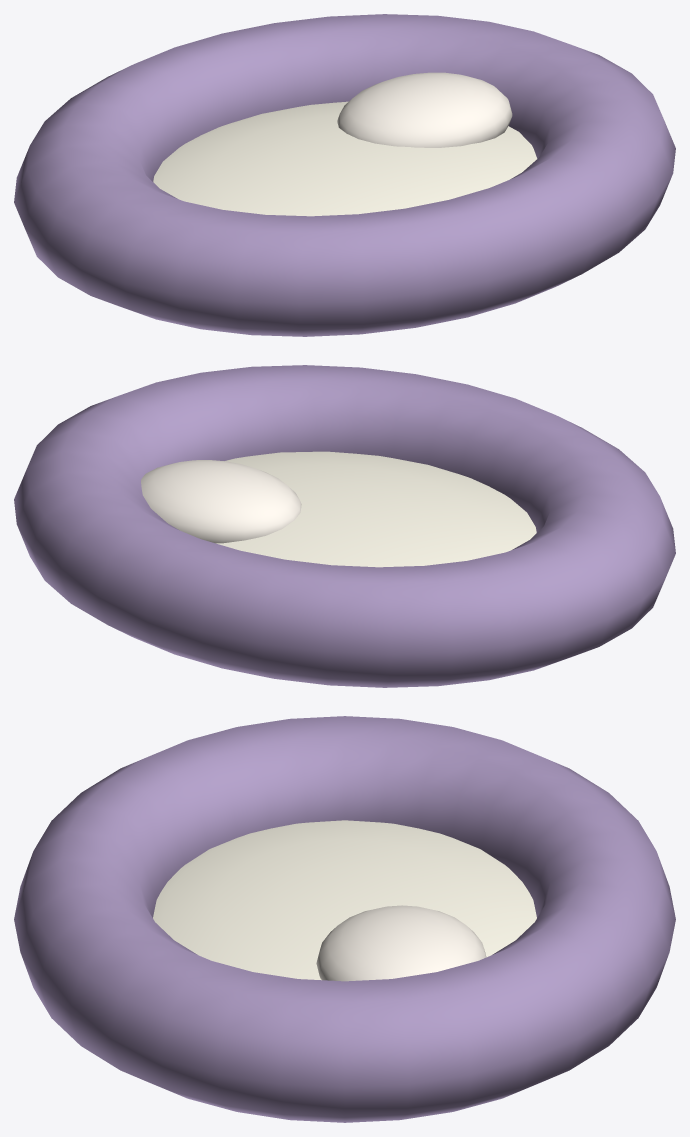
File: bed-purple.glb
3 renders of one model, top to bottom at view 1: azimuth 30°, elevation 25°; view 2: azimuth 150°, elevation 25°; view 3: azimuth 270°, elevation 25°, orthographic. The views are drawn at different scales.
Parts seen in each view (by area): view 1: Soft bed rim, Pet bed cushion, Little pillow; view 2: Soft bed rim, Pet bed cushion, Little pillow; view 3: Soft bed rim, Pet bed cushion, Little pillow.
Part boxes in pixels (box(x1,y1,x2,y2)): Soft bed rim: box(14, 14, 675, 336); Pet bed cushion: box(153, 101, 537, 216); Little pillow: box(337, 72, 512, 147); Soft bed rim: box(14, 365, 675, 687); Pet bed cushion: box(216, 451, 536, 567); Little pillow: box(141, 460, 301, 543); Soft bed rim: box(14, 716, 675, 1122); Pet bed cushion: box(153, 820, 536, 980); Little pillow: box(316, 905, 486, 981).
Size of the model in its own units: 1.94 by 0.4417 by 1.62.
